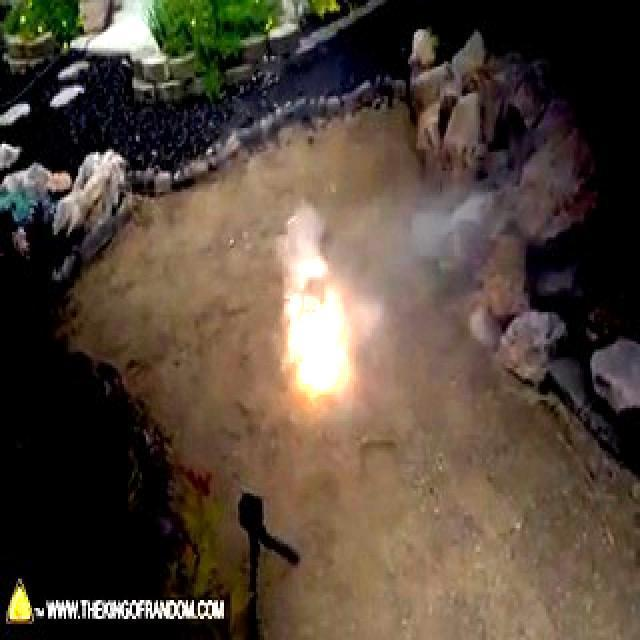Fire: (292, 310, 338, 386)
Smoke: (332, 182, 530, 356), (275, 199, 331, 297)
